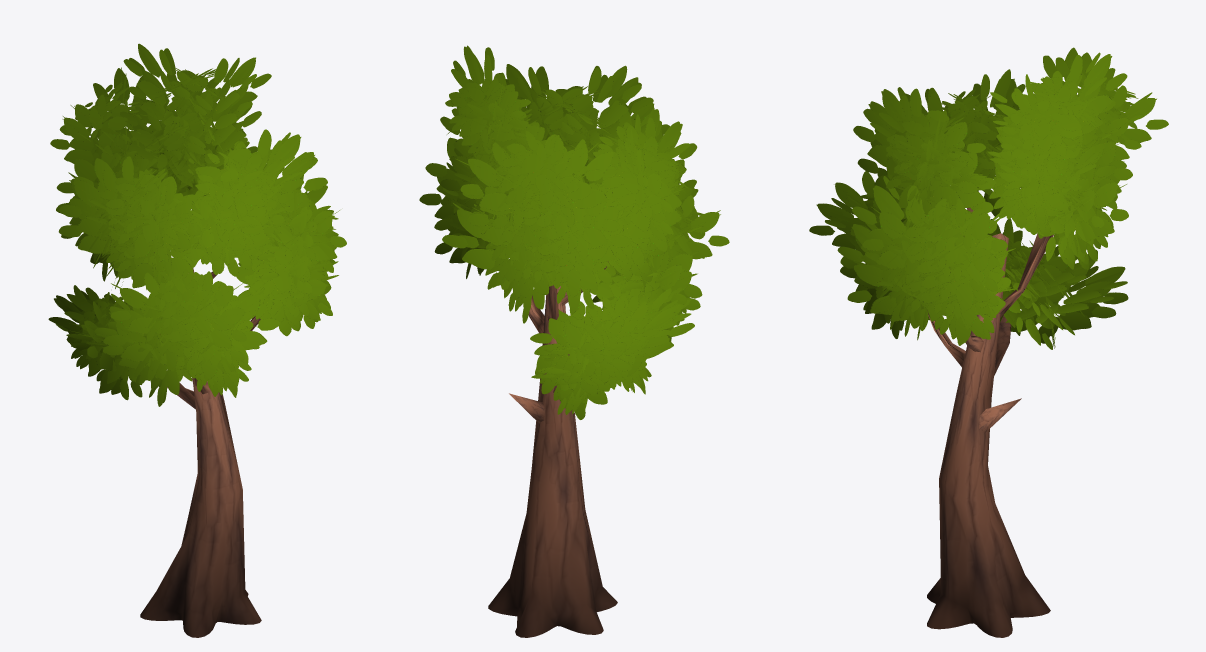
File: mk-common-5-lo.glb
3 views of the same model, side by side, from view 1: azimuth 30°, elevation 25°; view 2: azimuth 150°, elevation 25°; view 3: azimuth 270°, elevation 25° (orthographic). The views are drawn at different scales.
Parts seen in each view (by area): view 1: CommonTree_5; view 2: CommonTree_5; view 3: CommonTree_5.
Part boxes in pixels (left/top/right/bottom): CommonTree_5: left=48, top=43, right=346, bottom=637; CommonTree_5: left=419, top=45, right=729, bottom=637; CommonTree_5: left=809, top=47, right=1168, bottom=637.
Size of the model in its own units: 3.9 by 7.13 by 4.46.
Materials: 2 (2 with a texture image).
